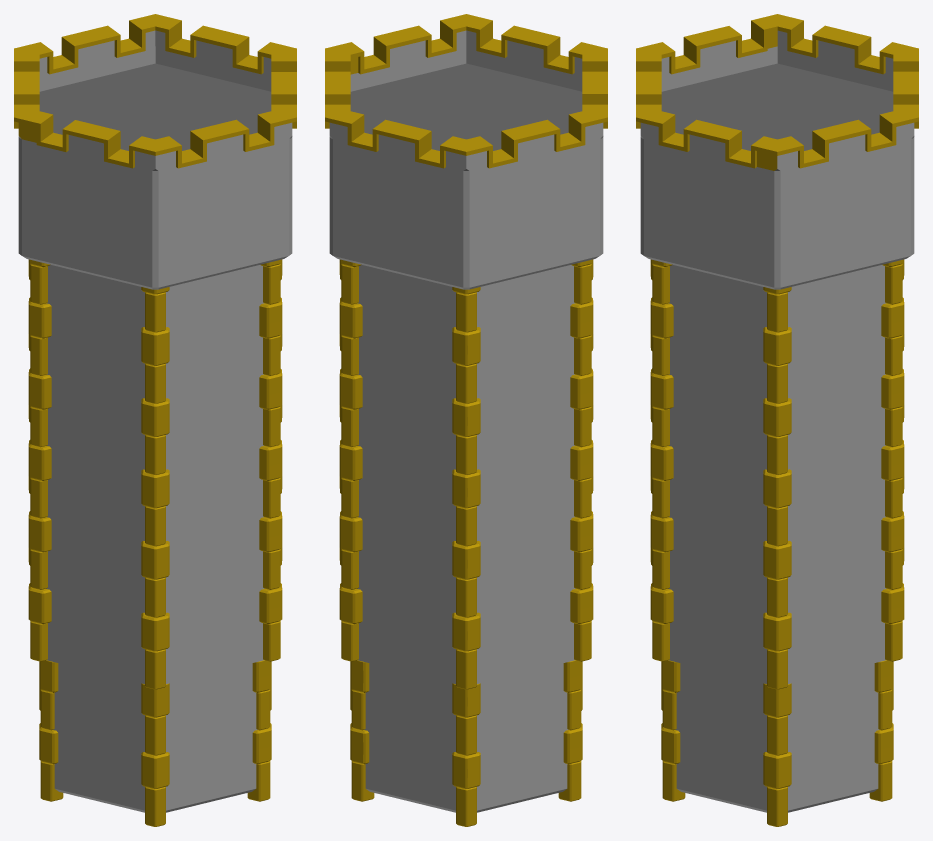
Rendered from Castle Tower 1.fbx.
3 views of the same model, side by side, from view 1: azimuth 30°, elevation 25°; view 2: azimuth 150°, elevation 25°; view 3: azimuth 270°, elevation 25° (orthographic).
Visible parts, largest first — view 1: pCylinder1, pCube8, pCube25, pCube29; view 2: pCylinder1, pCube26, pCube25, pCube30; view 3: pCylinder1, pCube28, pCube29, pCube30.
Boxes of the visible parts, x1,y1,x2,y2 form: pCylinder1: (14,14,296,812); pCube8: (141,287,169,826); pCube25: (28,259,63,801); pCube29: (247,259,282,801); pCylinder1: (325,14,607,812); pCube26: (452,287,480,826); pCube25: (558,259,593,801); pCube30: (339,259,374,801); pCylinder1: (636,14,918,812); pCube28: (763,287,791,826); pCube29: (650,259,685,801); pCube30: (869,259,904,801).
Size of the model in its own units: 29.41 by 68.49 by 25.47.
